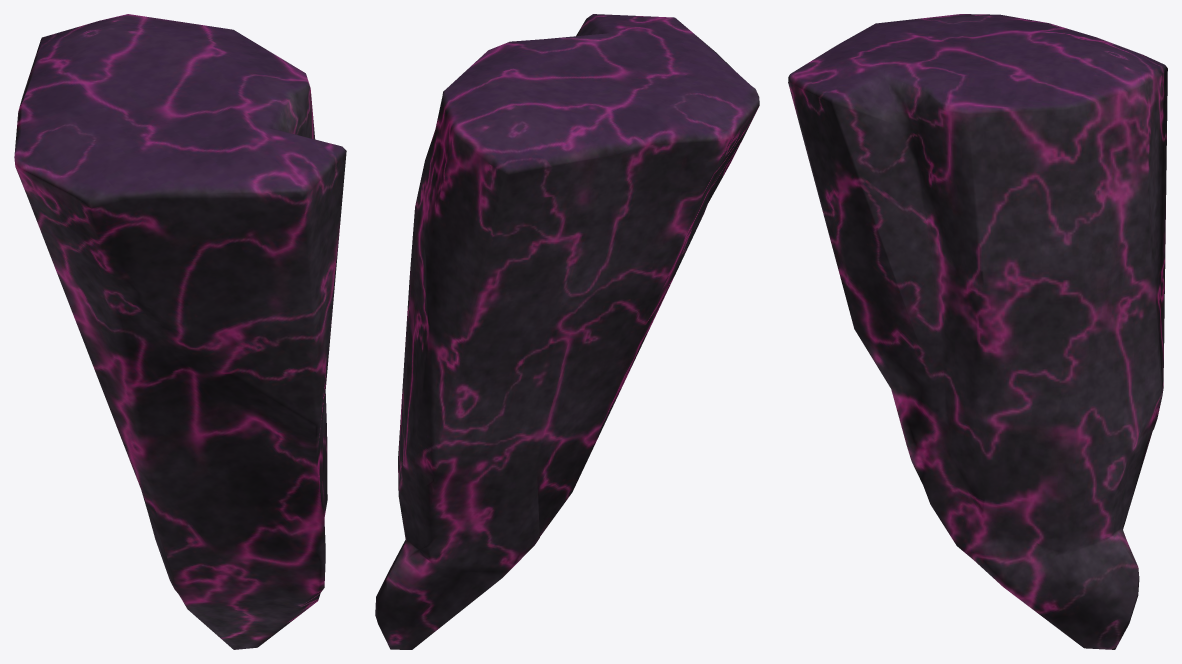
File: caos_stl_cliffrock_01e_chaos_v36.glb
The picture shows the model from 3 angles, left to right: view 1: azimuth 30°, elevation 25°; view 2: azimuth 150°, elevation 25°; view 3: azimuth 270°, elevation 25°; orthographic projection. The views are drawn at different scales.
Parts seen in each view (by area): view 1: caos_stl_cliffrock_01e; view 2: caos_stl_cliffrock_01e; view 3: caos_stl_cliffrock_01e.
Part boxes in pixels (x1=…): caos_stl_cliffrock_01e: x1=14, y1=14, x2=346, y2=649; caos_stl_cliffrock_01e: x1=375, y1=14, x2=759, y2=649; caos_stl_cliffrock_01e: x1=788, y1=14, x2=1167, y2=649.
Size of the model in its own units: 5.38 by 10.31 by 6.53.
Materials: 1 (1 with a texture image).
